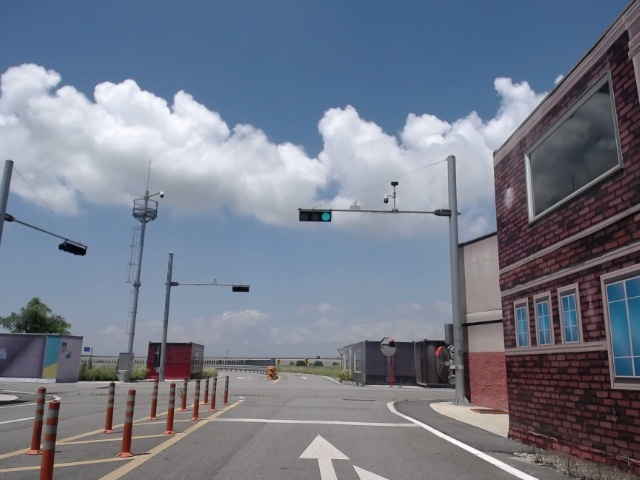green_3: (300, 211, 330, 221)
